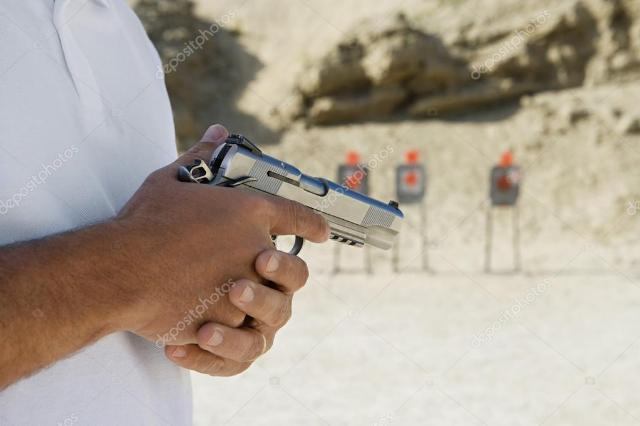handgun: (174, 131, 408, 294)
